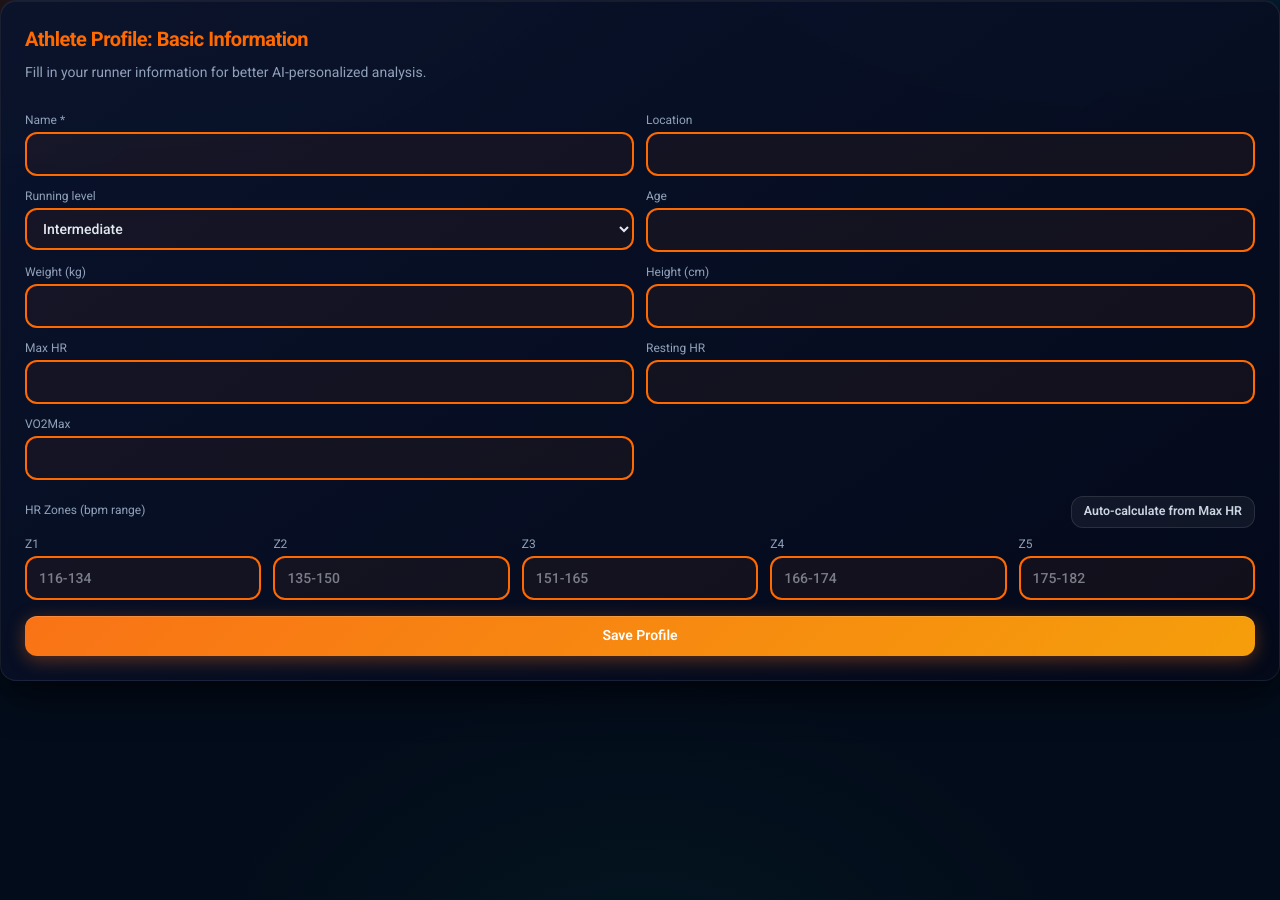
Scenario: AthleteProfileForm › auto-calculates zones from max HR
Type "190" into the number field labelled "Max HR" at point(330, 382), box [25,360,634,404]
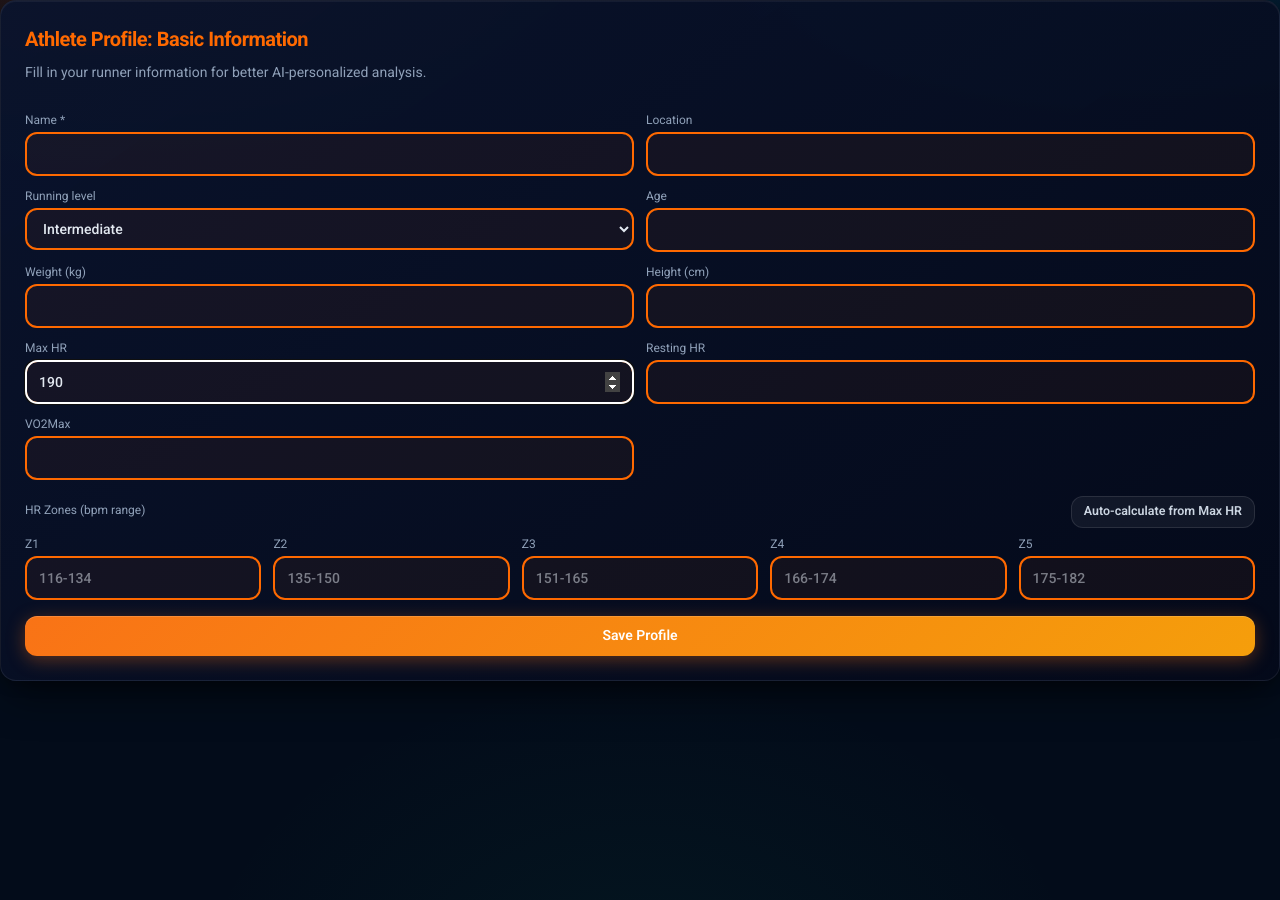
Click the button "Auto-calculate from Max HR" at point(1163, 512), box [1071,496,1255,528]
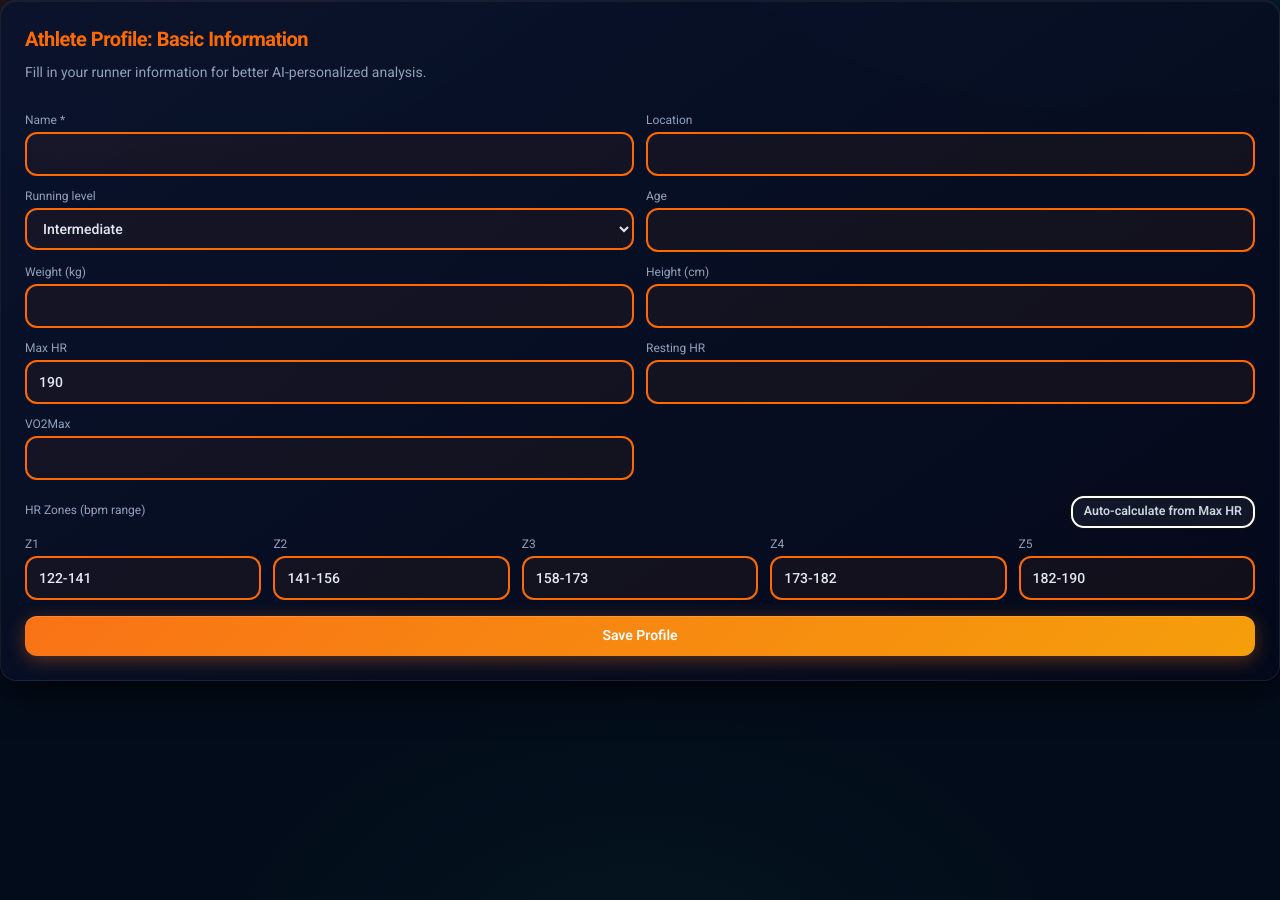
Result: the field labelled "Z1" holds "122-141" at [25,556,261,600]
Result: the field labelled "Z5" holds "182-190" at [1019,556,1255,600]
